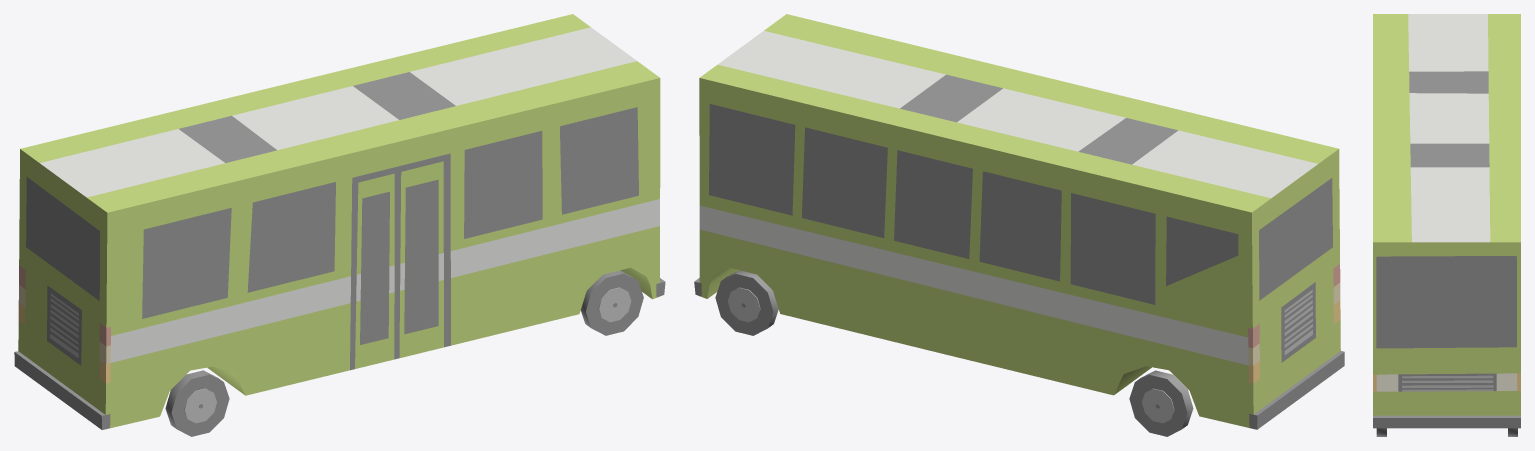
File: bus2.fbx
3 views of the same model, side by side, from view 1: azimuth 30°, elevation 25°; view 2: azimuth 150°, elevation 25°; view 3: azimuth 270°, elevation 25° (orthographic). The views are drawn at different scales.
Parts seen in each view (by area): view 1: Extrude_2, Cylinder_9, Cylinder_6; view 2: Extrude_2, Cylinder_8, Cylinder_7; view 3: Extrude_2.
Part boxes in pixels (x1=…): Extrude_2: x1=14, y1=14, x2=665, y2=429; Cylinder_9: x1=165, y1=370, x2=229, y2=436; Cylinder_6: x1=580, y1=270, x2=643, y2=335; Extrude_2: x1=694, y1=14, x2=1344, y2=429; Cylinder_8: x1=1129, y1=370, x2=1193, y2=436; Cylinder_7: x1=715, y1=270, x2=778, y2=335; Extrude_2: x1=1373, y1=14, x2=1520, y2=428.
Bounding box in the file's own units: 742 × 310 × 199.
